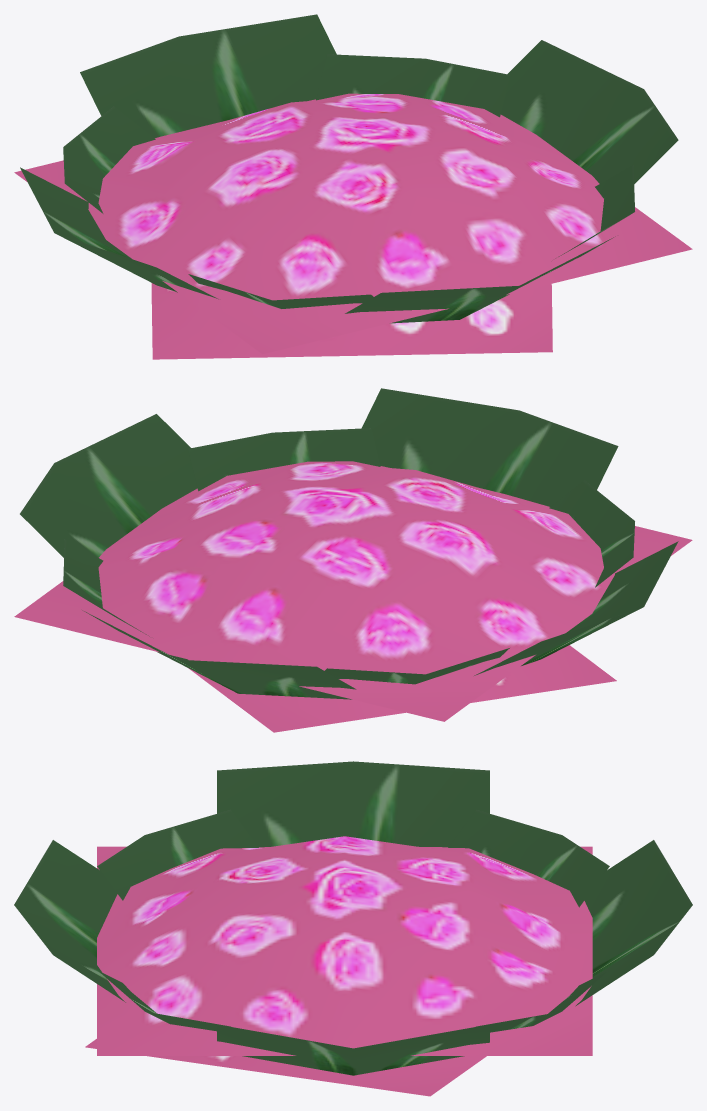
3 views of the same model, one above another, from view 1: azimuth 30°, elevation 25°; view 2: azimuth 150°, elevation 25°; view 3: azimuth 270°, elevation 25° (orthographic).
Parts seen in each view (by area): view 1: a109; view 2: a109; view 3: a109.
Part boxes in pixels (x1,y1,x2,y2): a109: (14,14,692,359); a109: (14,388,692,732); a109: (14,761,692,1096).
Size of the model in its own units: 148 by 35.3 by 148.
